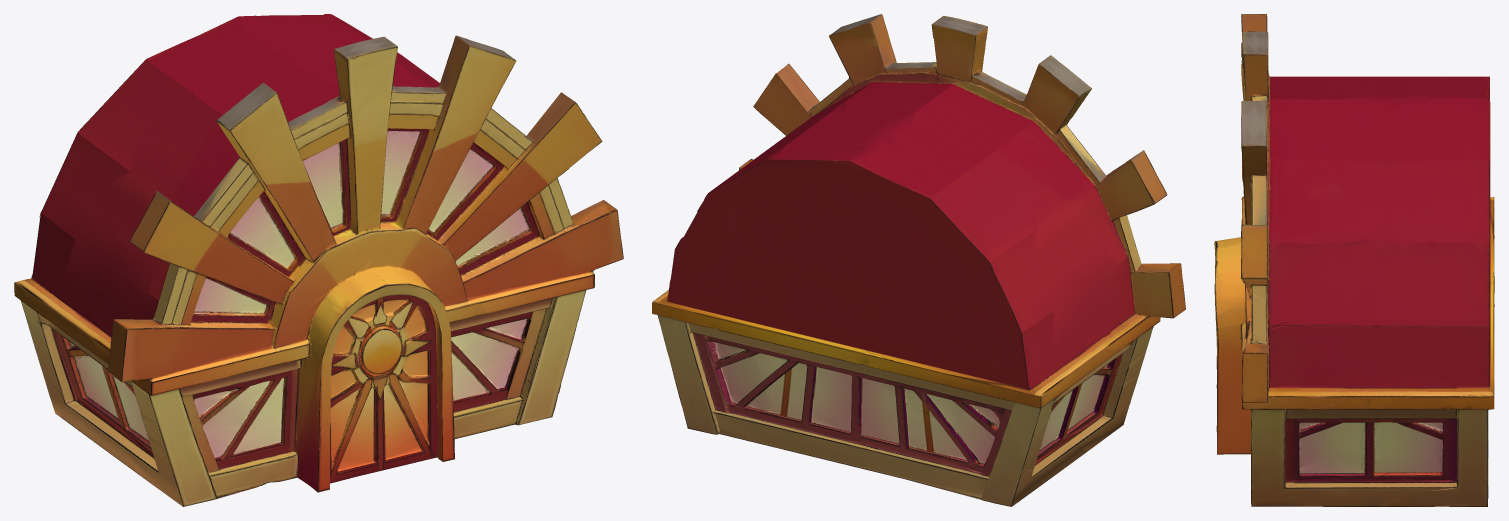
The model's file is sunrisegym.glb.
3 views of the same model, side by side, from view 1: azimuth 30°, elevation 25°; view 2: azimuth 150°, elevation 25°; view 3: azimuth 270°, elevation 25° (orthographic). The views are drawn at different scales.
Size of the model in its own units: 1.9 by 1.5 by 0.9947.
1 material, 1 textured.
